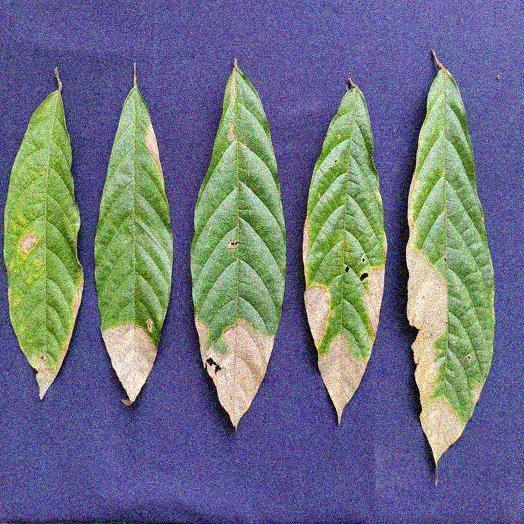Potassium: (407, 54, 494, 472), (190, 61, 285, 428), (304, 79, 386, 422), (95, 67, 172, 405), (4, 70, 83, 398)
